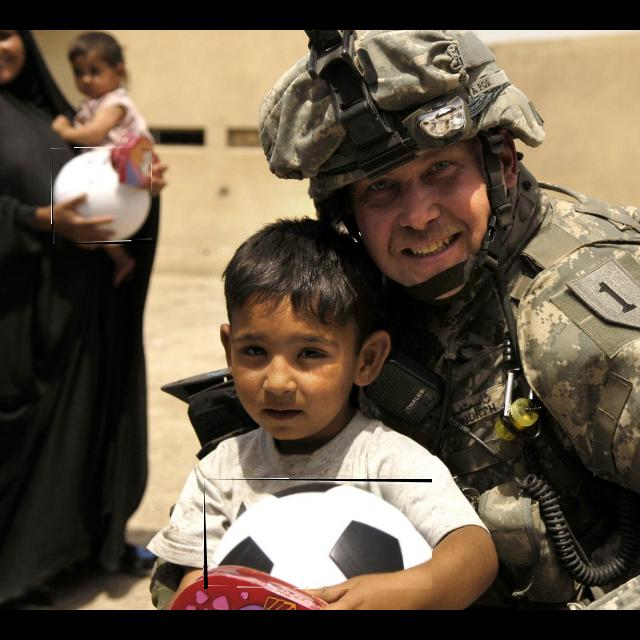Football: (204, 479, 432, 589), (52, 148, 152, 244)
